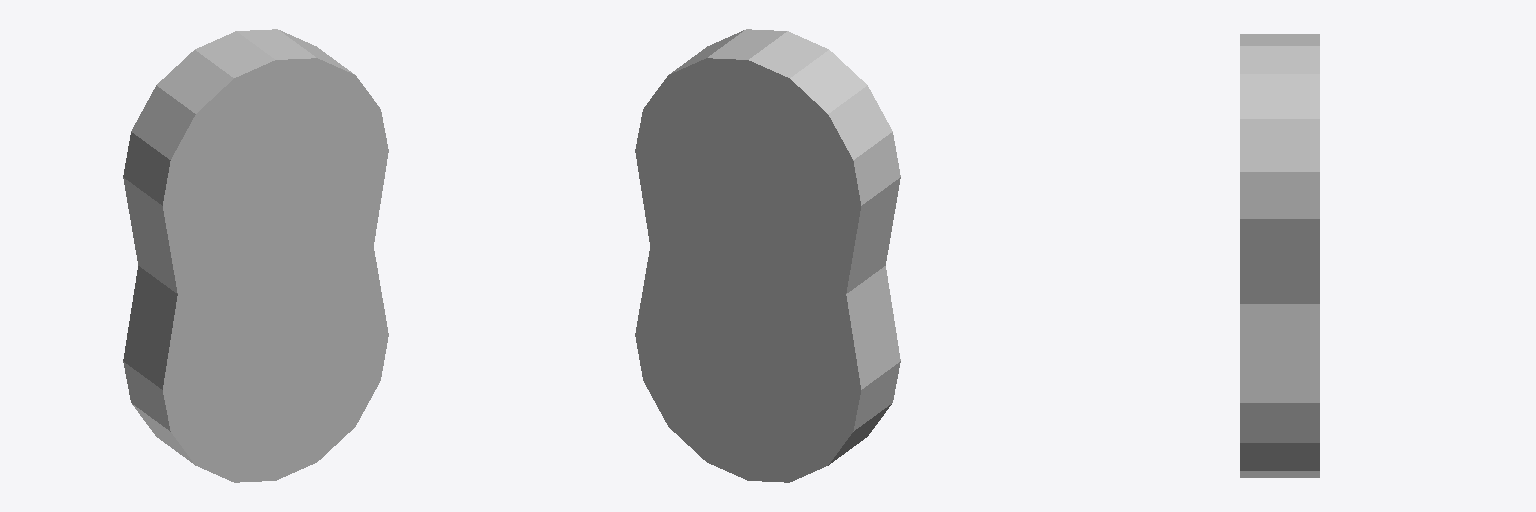
File: Sponge.obj
The picture shows the model from 3 angles: view 1: azimuth 30°, elevation 25°; view 2: azimuth 150°, elevation 25°; view 3: azimuth 270°, elevation 25°; orthographic projection.
Visible parts, largest first — view 1: object_1; view 2: object_1; view 3: object_1.
Boxes of the visible parts, x1,y1,x2,y2 form: object_1: [123, 29, 388, 482]; object_1: [635, 29, 900, 482]; object_1: [1240, 34, 1319, 477].
Bounding box in the file's own units: 9 × 16 × 2.72.